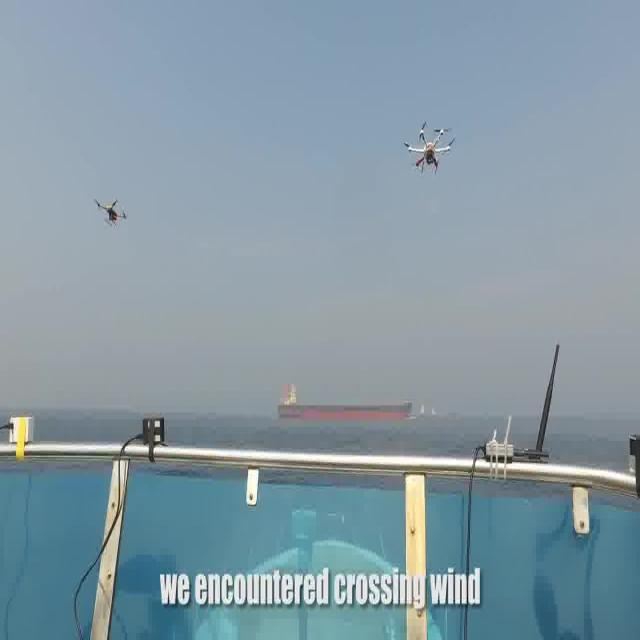drone: (402, 116, 453, 175), (96, 196, 128, 227)
